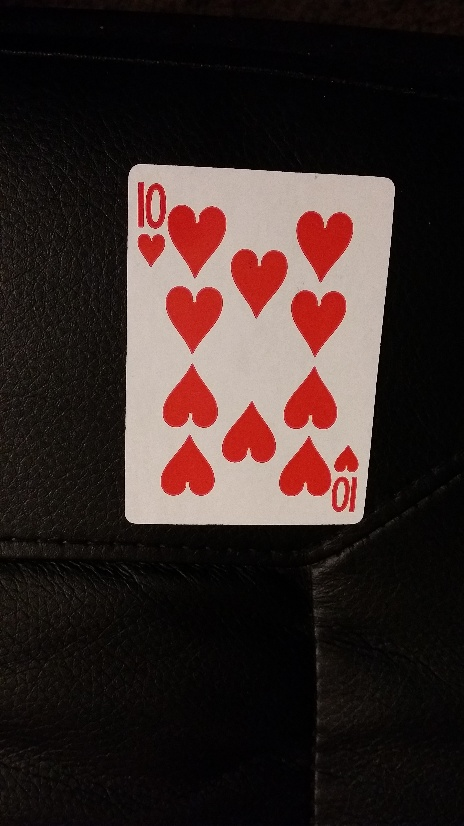H10: (133, 175, 168, 267), (330, 442, 361, 523)
